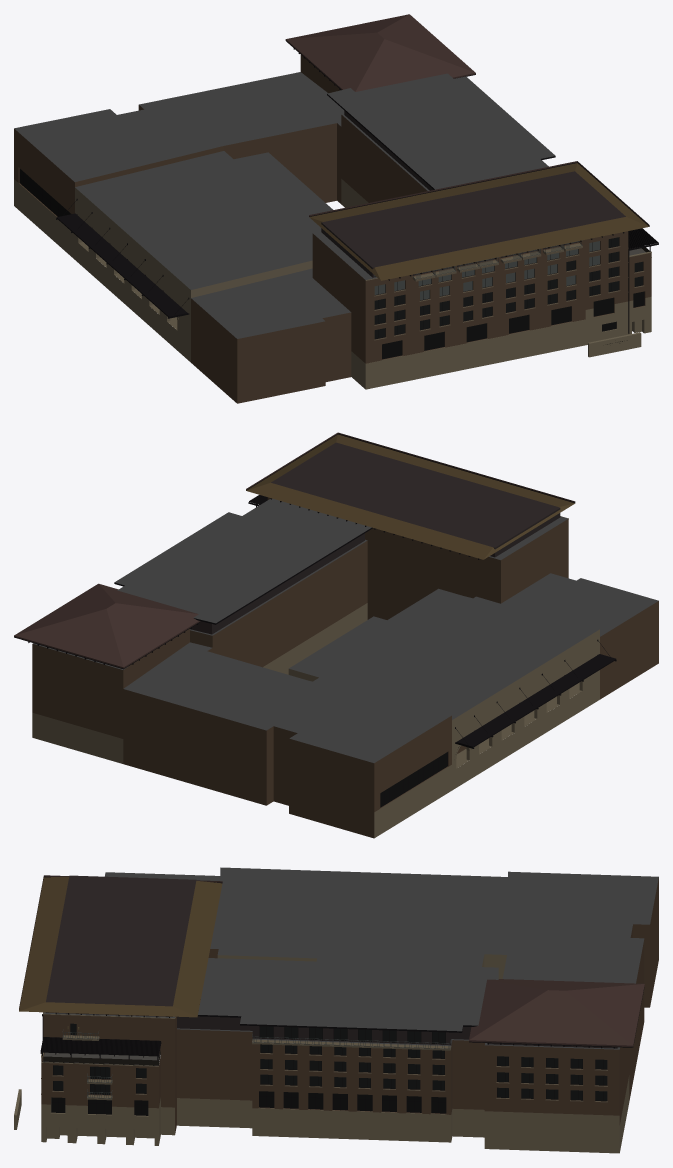
File: att-executive-education-conference-center-look.glb
3 views of the same model, one above another, from view 1: azimuth 30°, elevation 25°; view 2: azimuth 150°, elevation 25°; view 3: azimuth 270°, elevation 25° (orthographic). The views are drawn at different scales.
Parts seen in each view (by area): view 1: n_roof_flat, n_wall_brick, n_wall_limestone, n_wall_panel_bronze, n_roof_tile, n_soffit_ochre, n_metal_dark, n_glass_window, n_glass_storefront, n_metal_frame, n_blind_curtain, n_wall_brick_soldier (+3 smaller); view 2: n_roof_flat, n_wall_brick, n_wall_panel_bronze, n_wall_limestone, n_roof_tile, n_soffit_ochre, n_metal_dark, n_glass_storefront, n_trim_concrete; view 3: n_roof_flat, n_wall_brick, n_wall_limestone, n_wall_panel_bronze, n_roof_tile, n_soffit_ochre, n_glass_window, n_metal_frame, n_metal_dark, n_glass_storefront, n_trim_concrete, n_trim_stone (+3 smaller).
Part boxes in pixels (x1=…): n_roof_flat: x1=14, y1=72, x2=555, y2=338; n_wall_brick: x1=14, y1=54, x2=651, y2=403; n_wall_limestone: x1=14, y1=179, x2=651, y2=389; n_wall_panel_bronze: x1=321, y1=111, x2=625, y2=277; n_roof_tile: x1=285, y1=14, x2=649, y2=225; n_soffit_ochre: x1=309, y1=163, x2=648, y2=280; n_metal_dark: x1=56, y1=41, x2=658, y2=333; n_glass_window: x1=374, y1=237, x2=642, y2=338; n_glass_storefront: x1=20, y1=169, x2=644, y2=358; n_metal_frame: x1=19, y1=168, x2=644, y2=359; n_blind_curtain: x1=374, y1=241, x2=599, y2=300; n_wall_brick_soldier: x1=365, y1=247, x2=651, y2=345; n_roof_flat: x1=33, y1=498, x2=658, y2=762; n_wall_brick: x1=32, y1=497, x2=658, y2=838; n_wall_panel_bronze: x1=190, y1=442, x2=560, y2=634; n_wall_limestone: x1=32, y1=603, x2=599, y2=837; n_roof_tile: x1=14, y1=432, x2=575, y2=668; n_soffit_ochre: x1=246, y1=434, x2=574, y2=559; n_metal_dark: x1=14, y1=434, x2=616, y2=748; n_glass_storefront: x1=380, y1=752, x2=447, y2=807; n_trim_concrete: x1=456, y1=682, x2=581, y2=768; n_roof_flat: x1=43, y1=867, x2=658, y2=1049; n_wall_brick: x1=41, y1=878, x2=658, y2=1134; n_wall_limestone: x1=14, y1=954, x2=629, y2=1153; n_wall_panel_bronze: x1=45, y1=875, x2=617, y2=1048; n_roof_tile: x1=19, y1=875, x2=644, y2=1047; n_soffit_ochre: x1=19, y1=876, x2=222, y2=1017; n_glass_window: x1=53, y1=1023, x2=607, y2=1100; n_metal_frame: x1=51, y1=1024, x2=606, y2=1115; n_metal_dark: x1=19, y1=876, x2=643, y2=1061; n_glass_storefront: x1=51, y1=1091, x2=445, y2=1115; n_trim_concrete: x1=62, y1=1035, x2=451, y2=1100; n_trim_stone: x1=41, y1=1012, x2=607, y2=1116.
Bounding box in the file's own units: 90.82 × 28.66 × 110.
